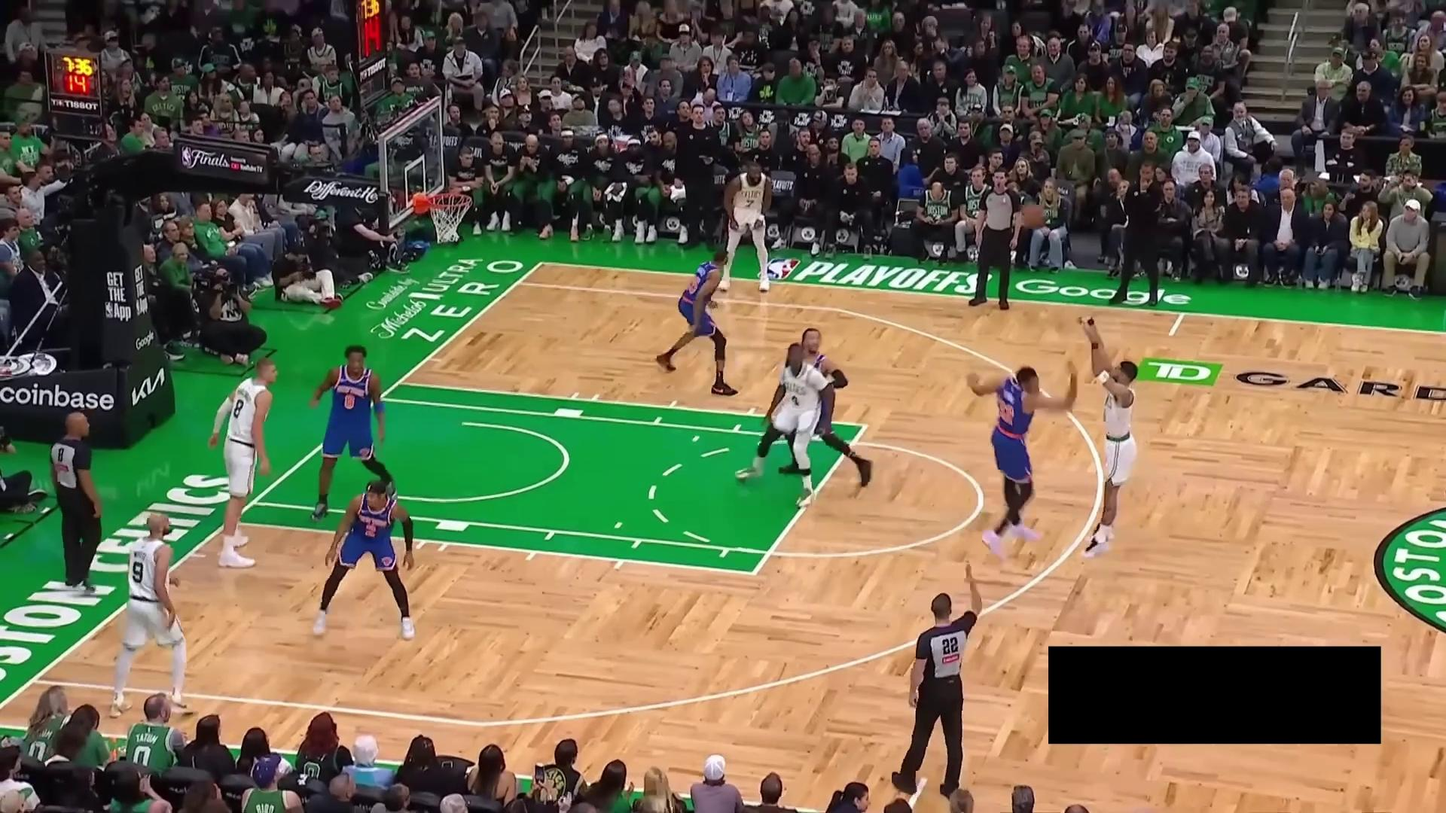ball: (1020, 202, 1045, 228)
number: (233, 398, 245, 419), (133, 561, 144, 583), (343, 393, 356, 410), (365, 522, 377, 537), (790, 394, 801, 407), (744, 196, 755, 209)
player: (108, 511, 196, 720), (313, 479, 417, 641), (734, 341, 834, 509), (773, 326, 874, 489), (309, 343, 398, 523), (208, 355, 279, 569), (655, 247, 740, 397), (718, 159, 774, 293)
player-jump-shot: (1077, 313, 1141, 559)
player-shot-block: (964, 355, 1082, 562)
referee: (893, 560, 982, 799), (49, 411, 105, 595), (968, 167, 1023, 312)
rim: (428, 191, 473, 209)
